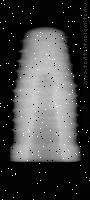Biomet 3i: (5, 25, 82, 163)
